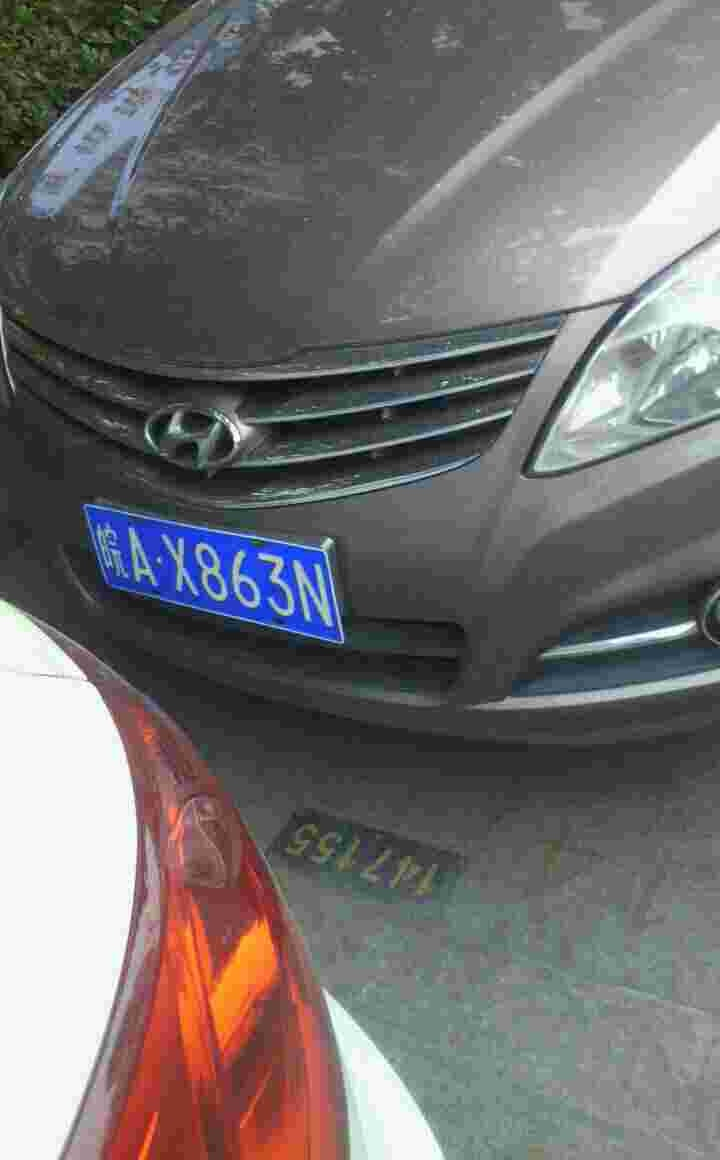car: (83, 500, 340, 650)
